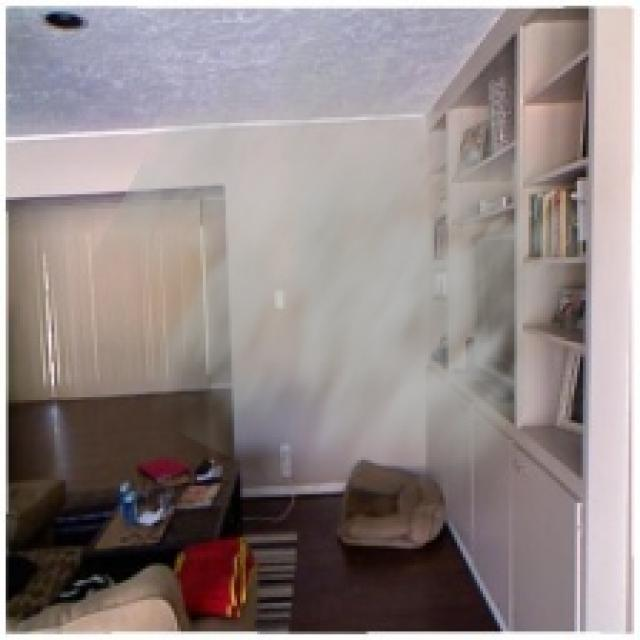smoke: (83, 6, 617, 568)
